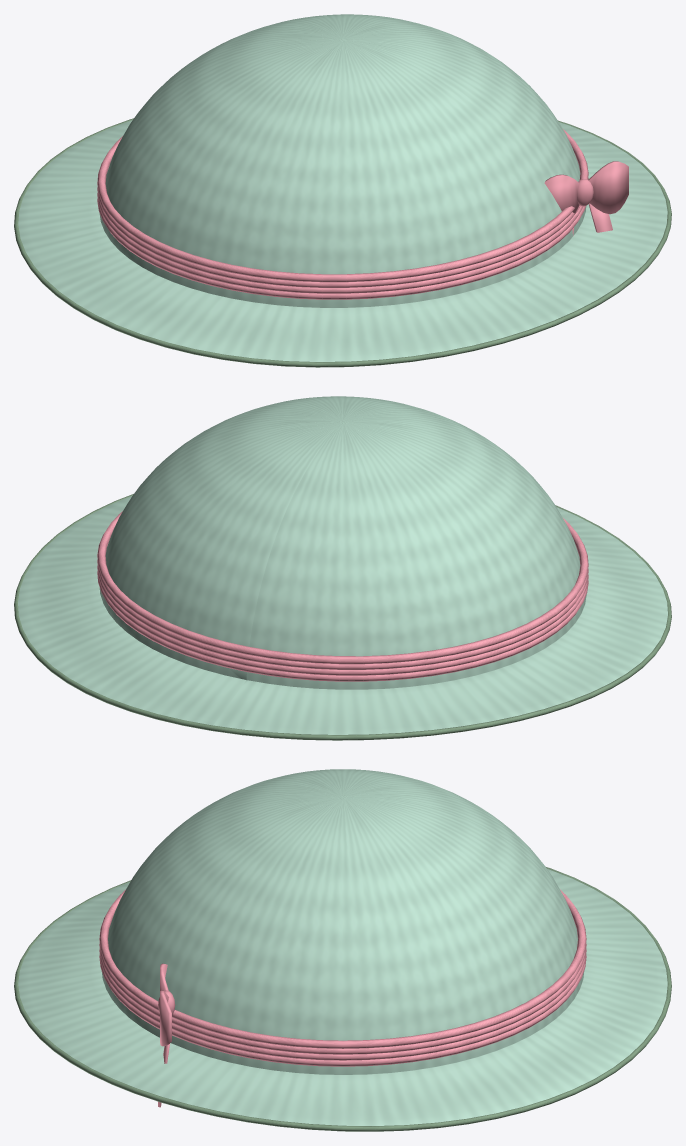
Rendered from restart_headfinish_hat_garden_penguin.glb.
3 views of the same model, one above another, from view 1: azimuth 30°, elevation 25°; view 2: azimuth 150°, elevation 25°; view 3: azimuth 270°, elevation 25° (orthographic). The views are drawn at different scales.
Parts seen in each view (by area): view 1: Copa redondeada.002, Ala de paja, Borde del ala, Cinta coral.003, Cinta coral, Cinta coral.001, Cinta coral.002, Panel · Lazo jardín.001, Panel · Lazo jardín; view 2: Copa redondeada.002, Ala de paja, Cinta coral.003, Borde del ala, Cinta coral, Cinta coral.001, Cinta coral.002; view 3: Copa redondeada.002, Ala de paja, Borde del ala, Cinta coral.003, Cinta coral, Cinta coral.002, Cinta coral.001, Panel · Lazo jardín.001.
Part boxes in pixels (x1,y1,x2,y2): Copa redondeada.002: (99,14,586,307); Ala de paja: (18,120,667,361); Borde del ala: (14,118,671,367); Cinta coral.003: (97,129,588,282); Cinta coral: (97,198,585,299); Cinta coral.001: (97,193,583,293); Cinta coral.002: (97,161,588,287); Panel · Lazo jardín.001: (588,161,628,214); Panel · Lazo jardín: (544,174,579,213); Copa redondeada.002: (99,396,586,689); Ala de paja: (18,496,667,734); Cinta coral.003: (97,511,588,664); Borde del ala: (14,494,671,740); Cinta coral: (97,571,588,681); Cinta coral.001: (97,566,588,675); Cinta coral.002: (97,543,588,669); Copa redondeada.002: (101,769,584,1074); Ala de paja: (18,869,667,1125); Borde del ala: (14,867,671,1131); Cinta coral.003: (99,889,586,1048); Cinta coral: (99,955,586,1066); Cinta coral.002: (99,943,586,1054); Cinta coral.001: (99,949,586,1060); Panel · Lazo jardín.001: (160,990,171,1046).
Bounding box in the file's own units: 0.946 × 0.3302 × 0.916.
3 materials, 3 textured.
